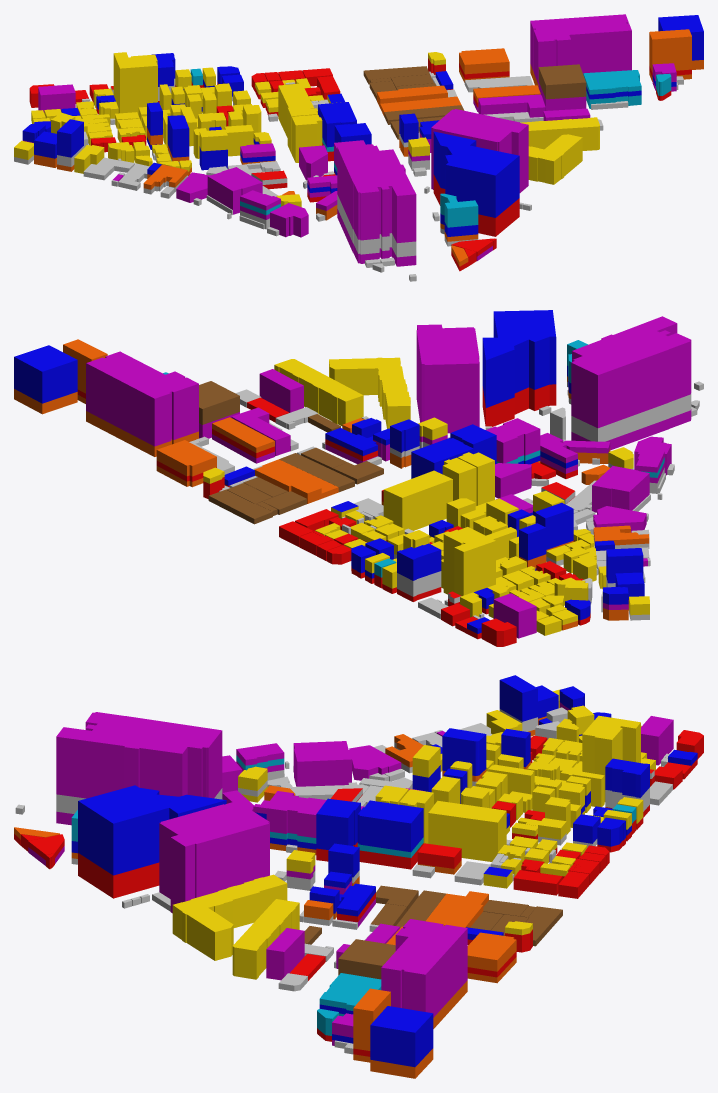
Rendered from seongsu3.glb.
The picture shows the model from 3 angles, top to bottom: view 1: azimuth 30°, elevation 25°; view 2: azimuth 150°, elevation 25°; view 3: azimuth 270°, elevation 25°; orthographic projection. The views are drawn at different scales.
Parts seen in each view (by area): view 1: mesh_CityEngineMaterial_3, mesh_CityEngineMaterial_6, mesh_CityEngineMaterial_5, mesh_CityEngineMaterial, mesh_CityEngineMaterial_2, mesh_CityEngineMaterial_1, mesh_CityEngineMaterial_7, mesh_CityEngineMaterial_4; view 2: mesh_CityEngineMaterial_3, mesh_CityEngineMaterial_6, mesh_CityEngineMaterial_5, mesh_CityEngineMaterial_2, mesh_CityEngineMaterial_1, mesh_CityEngineMaterial, mesh_CityEngineMaterial_7, mesh_CityEngineMaterial_4; view 3: mesh_CityEngineMaterial_3, mesh_CityEngineMaterial_6, mesh_CityEngineMaterial_5, mesh_CityEngineMaterial_1, mesh_CityEngineMaterial, mesh_CityEngineMaterial_2, mesh_CityEngineMaterial_7, mesh_CityEngineMaterial_4.
Part boxes in pixels (box(x1,y1,x2,y2)): mesh_CityEngineMaterial_3: box(22, 14, 676, 266); mesh_CityEngineMaterial_6: box(14, 52, 599, 207); mesh_CityEngineMaterial_5: box(22, 15, 703, 236); mesh_CityEngineMaterial: box(14, 71, 683, 281); mesh_CityEngineMaterial_2: box(34, 29, 703, 266); mesh_CityEngineMaterial_1: box(29, 58, 691, 271); mesh_CityEngineMaterial_7: box(363, 64, 586, 139); mesh_CityEngineMaterial_4: box(190, 68, 671, 227); mesh_CityEngineMaterial_3: box(86, 316, 691, 638); mesh_CityEngineMaterial_6: box(203, 357, 649, 635); mesh_CityEngineMaterial_5: box(14, 310, 644, 633); mesh_CityEngineMaterial_2: box(14, 339, 649, 630); mesh_CityEngineMaterial_1: box(77, 384, 590, 646); mesh_CityEngineMaterial: box(189, 381, 703, 620); mesh_CityEngineMaterial_7: box(199, 381, 383, 524); mesh_CityEngineMaterial_4: box(163, 340, 664, 577); mesh_CityEngineMaterial_3: box(28, 702, 673, 1045); mesh_CityEngineMaterial_6: box(172, 689, 655, 979); mesh_CityEngineMaterial_5: box(71, 675, 697, 1067); mesh_CityEngineMaterial_1: box(14, 730, 703, 1056); mesh_CityEngineMaterial: box(15, 707, 672, 1054); mesh_CityEngineMaterial_2: box(14, 707, 559, 1078); mesh_CityEngineMaterial_7: box(304, 885, 562, 979); mesh_CityEngineMaterial_4: box(71, 755, 636, 1035).
Size of the model in its own units: 416 by 45 by 326.
